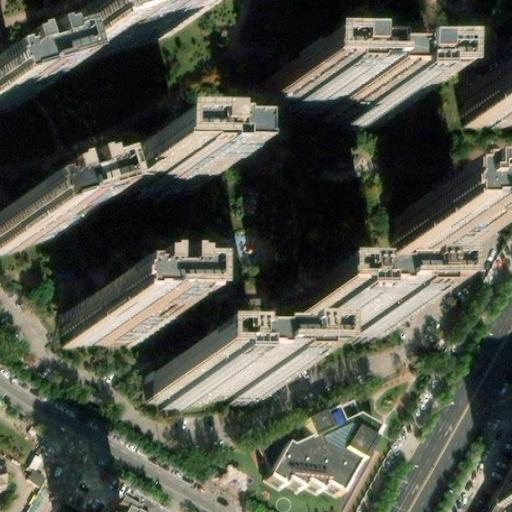building: (267, 405, 380, 498), (44, 0, 183, 67), (230, 52, 372, 97), (275, 315, 410, 348), (144, 370, 263, 406), (393, 204, 473, 252), (63, 301, 145, 346), (105, 164, 187, 201), (0, 204, 53, 254), (461, 82, 512, 128), (117, 492, 166, 512), (0, 75, 16, 108)
